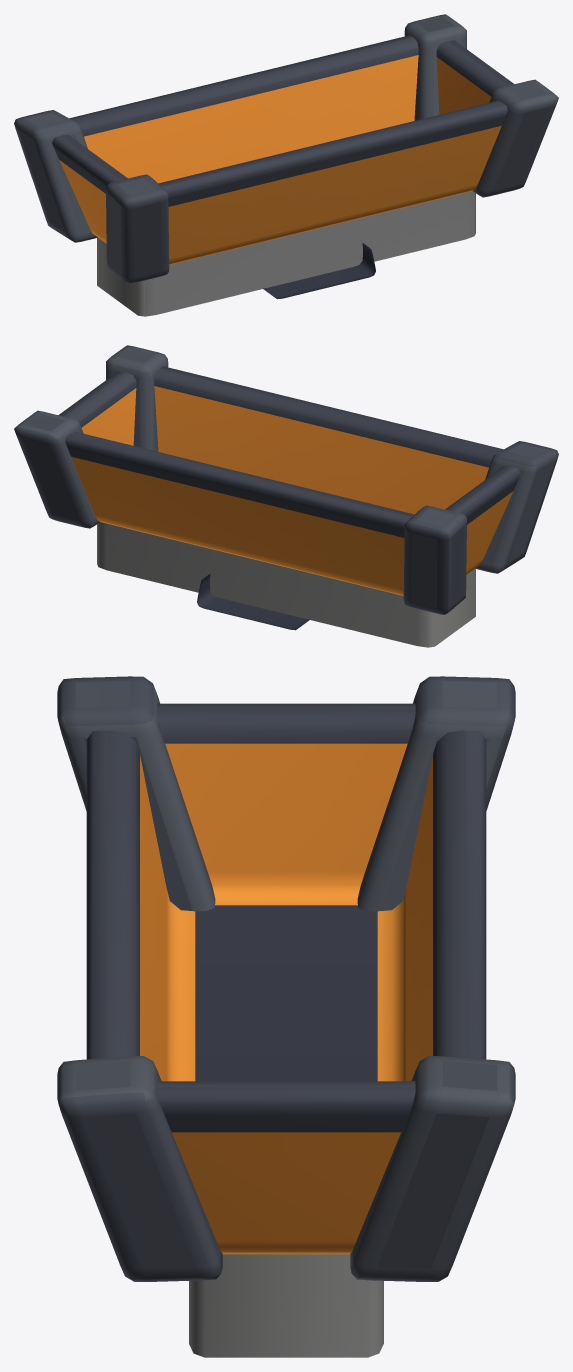
File: SM_Water_Container.fbx
3 views of the same model, one above another, from view 1: azimuth 30°, elevation 25°; view 2: azimuth 150°, elevation 25°; view 3: azimuth 270°, elevation 25° (orthographic). The views are drawn at different scales.
Parts seen in each view (by area): view 1: SM_Water_Container; view 2: SM_Water_Container; view 3: SM_Water_Container.
Boxes of the visible parts, <box> form: SM_Water_Container: <box>14,14,558,316</box>; SM_Water_Container: <box>14,345,558,647</box>; SM_Water_Container: <box>57,676,515,1357</box>.
Bounding box in the file's own units: 257 × 87.35 × 117.
